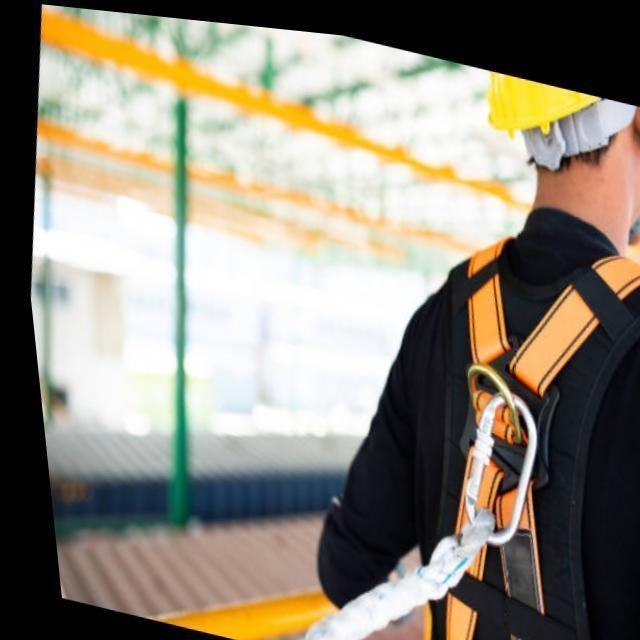Arnes_seguridad: (424, 238, 639, 639)
